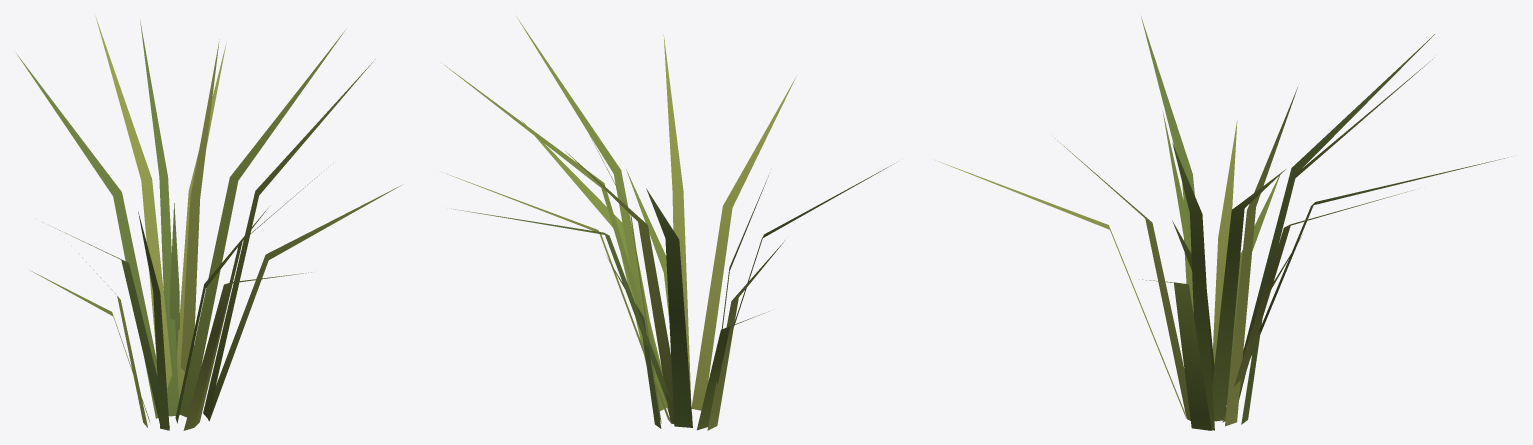
The model's file is grass_1.fbx.
3 renders of one model, left to right at view 1: azimuth 30°, elevation 25°; view 2: azimuth 150°, elevation 25°; view 3: azimuth 270°, elevation 25°, orthographic. The views are drawn at different scales.
Visible parts, largest first — view 1: grass_1; view 2: grass_1; view 3: grass_1.
Part boxes in pixels (x1,y1,x2,y2): grass_1: (16,16,403,430); grass_1: (444,16,896,430); grass_1: (935,16,1508,430).
Size of the model in its own units: 0.4977 by 0.4171 by 0.5892.
